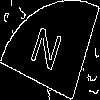N: (25, 25, 65, 82)
